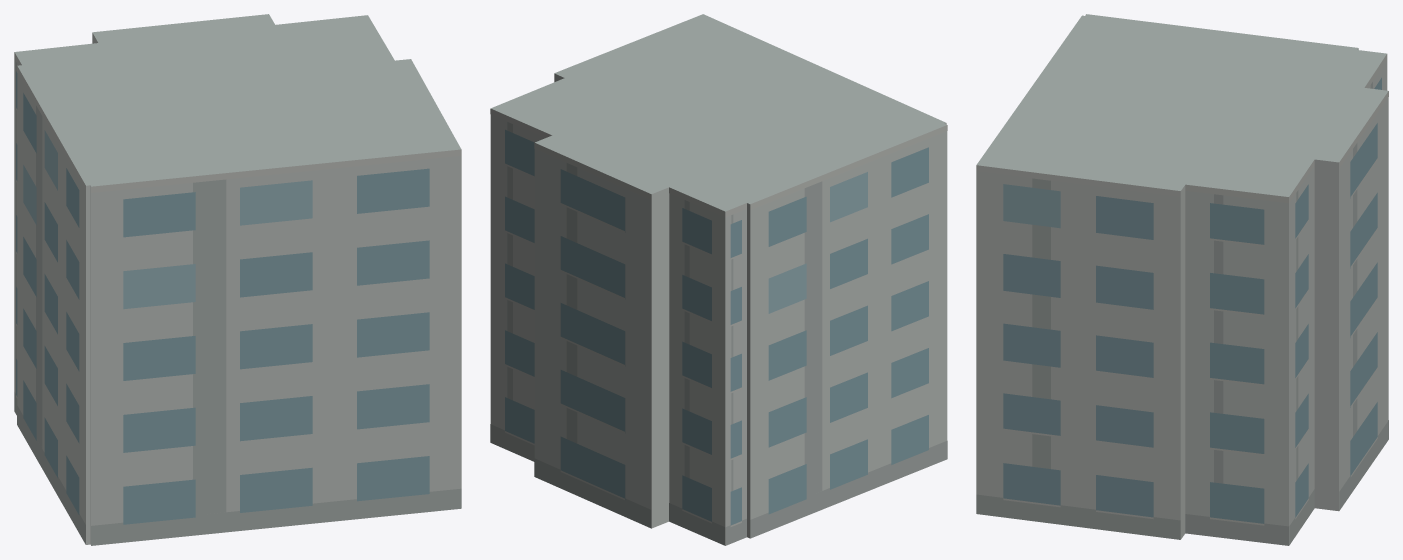
The model's file is survey-upis-32655968.glb.
The picture shows the model from 3 angles, left to right: view 1: azimuth 30°, elevation 25°; view 2: azimuth 150°, elevation 25°; view 3: azimuth 270°, elevation 25°; orthographic projection. The views are drawn at different scales.
Parts seen in each view (by area): view 1: survey-upis-32655968.tmp; view 2: survey-upis-32655968.tmp; view 3: survey-upis-32655968.tmp.
Part boxes in pixels (box(x1,y1,x2,y2)): survey-upis-32655968.tmp: box(14, 14, 461, 545); survey-upis-32655968.tmp: box(490, 14, 947, 545); survey-upis-32655968.tmp: box(976, 14, 1388, 545).
Bounding box in the file's own units: 15.47 × 13.73 × 14.72.
